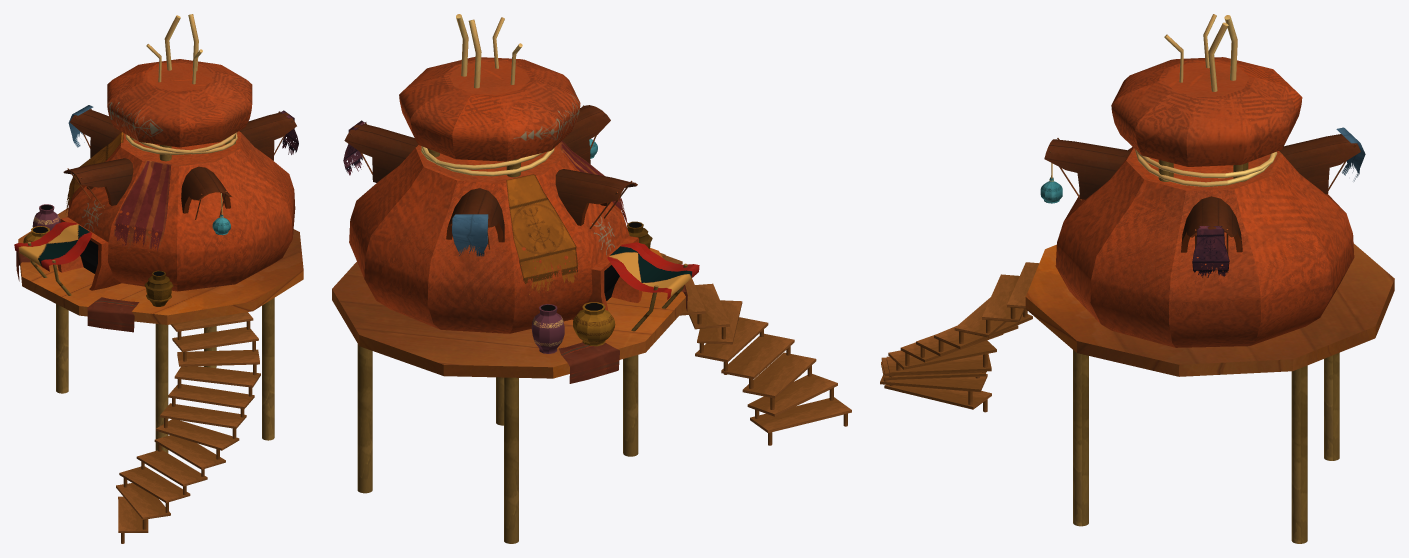
Rendered from maisonsuspendue.fbx.
3 views of the same model, side by side, from view 1: azimuth 30°, elevation 25°; view 2: azimuth 150°, elevation 25°; view 3: azimuth 270°, elevation 25° (orthographic). The views are drawn at different scales.
Visible parts, largest first — view 1: polySurface667, polySurface669, polySurface666, polySurface698, polySurface668, polySurface621, polySurface660, polySurface620, polySurface700, polySurface692, polySurface663, polySurface642 (+18 smaller); view 2: polySurface667, polySurface669, polySurface666, polySurface697, polySurface668, polySurface619, polySurface660, polySurface622, polySurface692, polySurface696, polySurface623, polySurface631 (+12 smaller); view 3: polySurface667, polySurface669, polySurface666, polySurface622, polySurface621, polySurface663, polySurface689, polySurface692, polySurface619, polySurface699, polySurface623, polySurface635 (+8 smaller).
Part boxes in pixels (left/top/right/bottom): polySurface667: left=57, top=131, right=295, bottom=291; polySurface669: left=107, top=59, right=252, bottom=147; polySurface666: left=18, top=208, right=303, bottom=324; polySurface698: left=113, top=160, right=171, bottom=252; polySurface668: left=14, top=222, right=92, bottom=271; polySurface621: left=262, top=298, right=274, bottom=440; polySurface660: left=63, top=158, right=133, bottom=205; polySurface620: left=155, top=324, right=168, bottom=453; polySurface700: left=87, top=297, right=139, bottom=332; polySurface692: left=239, top=112, right=296, bottom=160; polySurface663: left=181, top=166, right=231, bottom=213; polySurface642: left=160, top=403, right=246, bottom=428; polySurface667: left=349, top=143, right=642, bottom=333; polySurface669: left=399, top=57, right=580, bottom=161; polySurface666: left=332, top=248, right=685, bottom=378; polySurface697: left=506, top=174, right=578, bottom=295; polySurface668: left=607, top=242, right=699, bottom=299; polySurface619: left=504, top=377, right=518, bottom=543; polySurface660: left=555, top=169, right=637, bottom=225; polySurface622: left=357, top=344, right=372, bottom=493; polySurface692: left=344, top=124, right=417, bottom=182; polySurface696: left=559, top=342, right=619, bottom=383; polySurface623: left=750, top=397, right=851, bottom=432; polySurface631: left=721, top=333, right=794, bottom=379; polySurface667: left=1055, top=147, right=1354, bottom=347; polySurface669: left=1111, top=57, right=1302, bottom=166; polySurface666: left=1025, top=243, right=1394, bottom=376; polySurface622: left=1291, top=365, right=1307, bottom=543; polySurface621: left=1073, top=350, right=1088, bottom=526; polySurface663: left=1044, top=139, right=1130, bottom=199; polySurface689: left=1279, top=134, right=1360, bottom=194; polySurface692: left=1181, top=196, right=1242, bottom=252; polySurface619: left=1324, top=352, right=1339, bottom=460; polySurface699: left=1192, top=226, right=1229, bottom=277; polySurface623: left=884, top=384, right=991, bottom=409; polySurface635: left=886, top=353, right=991, bottom=375.
Bounding box in the file's own units: 20.59 × 25.89 × 24.68.
